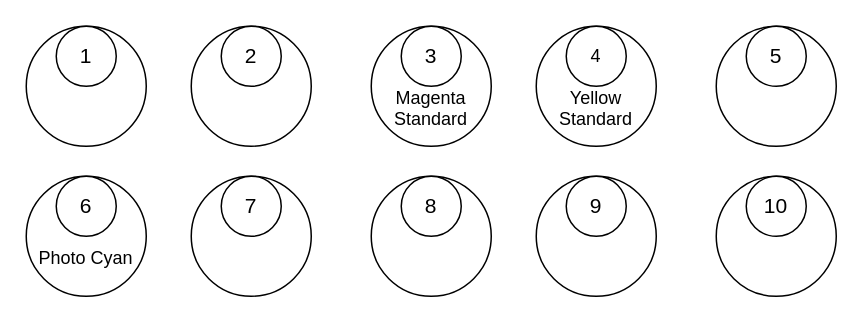
Some shapes in this 863 by 323 pixel diagram are drawn without their labels. The box of each missing label's shape, as (x1, y1, x2, y2) in pixels:
Black Standard: (25, 25, 146, 146)
Blue Special: (535, 175, 656, 296)
Cyan Standard: (190, 25, 311, 146)
Gold Metallic: (715, 175, 836, 296)
Photo Black: (715, 25, 836, 146)
Photo Magenta: (190, 175, 311, 296)
Red Special: (370, 175, 491, 296)
